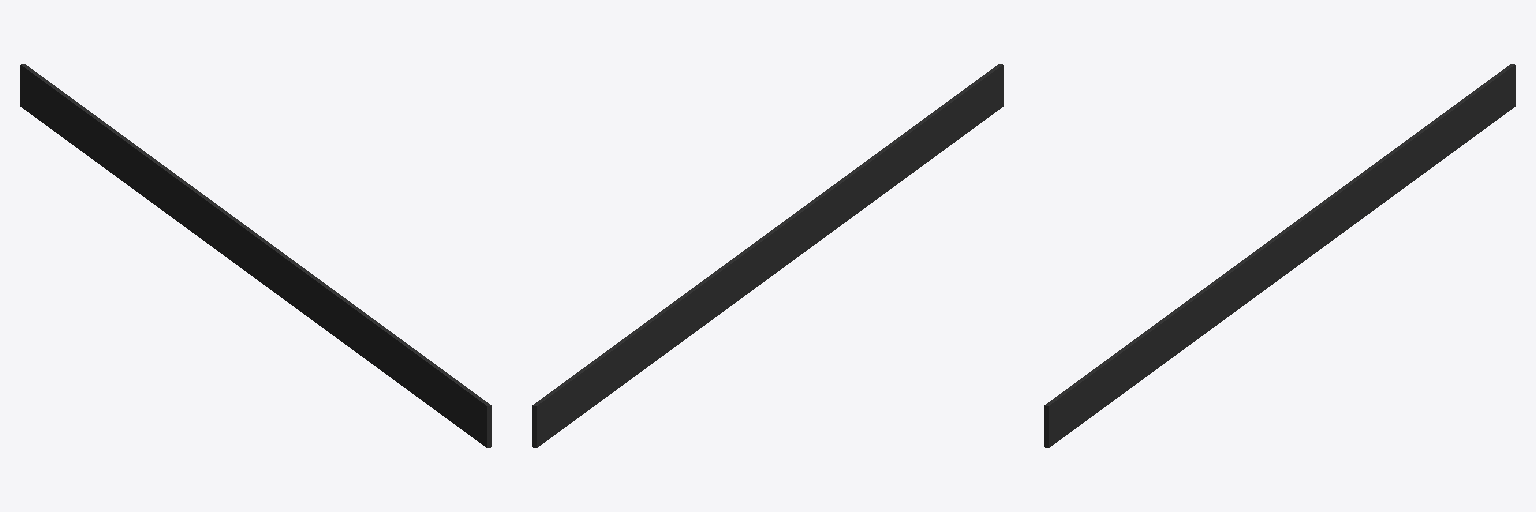
robot.urdf — wall:
<robot name="wall">
  <link name="baseLink">
   
    <inertial>
      <origin rpy="0 0 0" xyz="0 0 0" />
       <mass value="10" />
       <inertia ixx="0" ixy="0" ixz="0" iyy="0" iyz="0" izz="0" />
    </inertial>
    <visual>
      <origin rpy="0 0 0" xyz="0 0 0" />
      <geometry>
			  <box size="0.1 20.1 1" />
      </geometry>
       <material name="grey">
        <color rgba="0.24 0.24 0.24 1" />
      </material>
    </visual>
    <collision>
      <origin rpy="0 0 0" xyz="0 0 0" />
      <geometry>
	 	      <box size="0.1 20.1 1" />
      </geometry>
    </collision>
  </link>
</robot>

--- What the picture shows (computed from the rendered views, not written in the file) ---
3 views of the same robot in one strip: view 1: azimuth 30°, elevation 25°; view 2: azimuth 150°, elevation 25°; view 3: azimuth 330°, elevation 25° (orthographic).
Robot: wall — 1 links, 0 joints (none); root link baseLink; default pose: every joint at zero.
Visible links, largest first — view 1: baseLink; view 2: baseLink; view 3: baseLink.
Link boxes in pixels (box(x1,y1,x2,y2)): baseLink: box(20, 64, 491, 447); baseLink: box(532, 64, 1003, 447); baseLink: box(1044, 64, 1515, 447).
Bounding box of the posed robot: 0.1 × 20.1 × 1 m (x, y, z).
Geometry: primitives only (box / cylinder / sphere), no mesh files.
